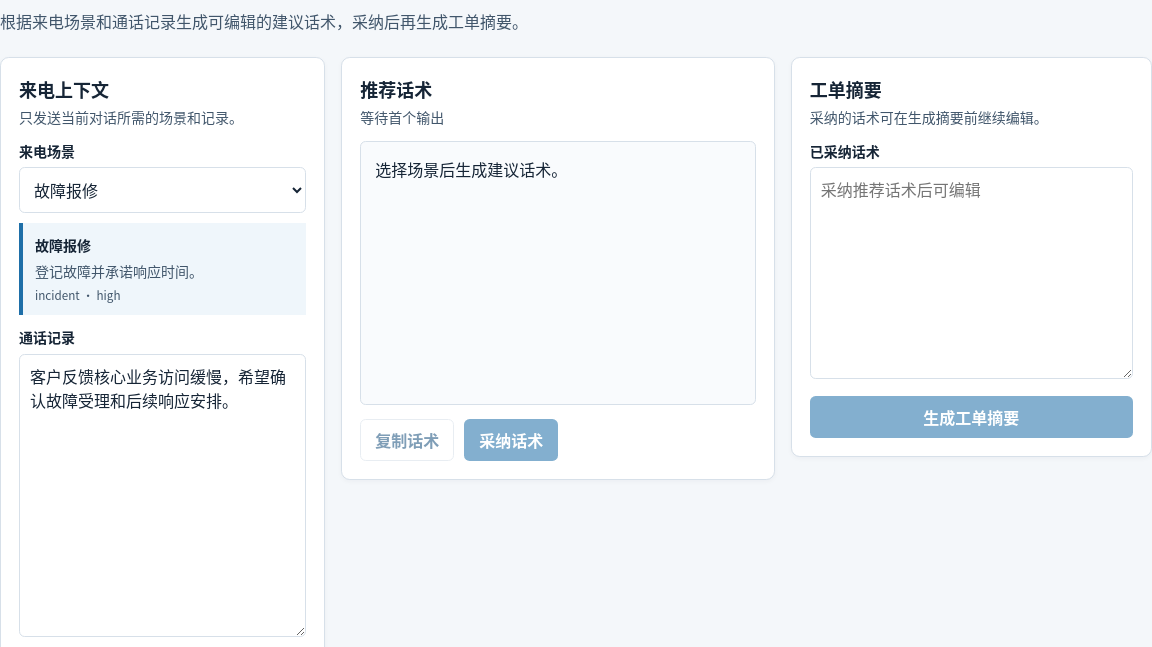
Test: accepts a streamed suggestion and enables summary
The image size is (1152, 647).
Select "故障报修" in the dropdown labelled "来电场景" at (163, 190), box 19,167 -> 306,213
(page scrolled)
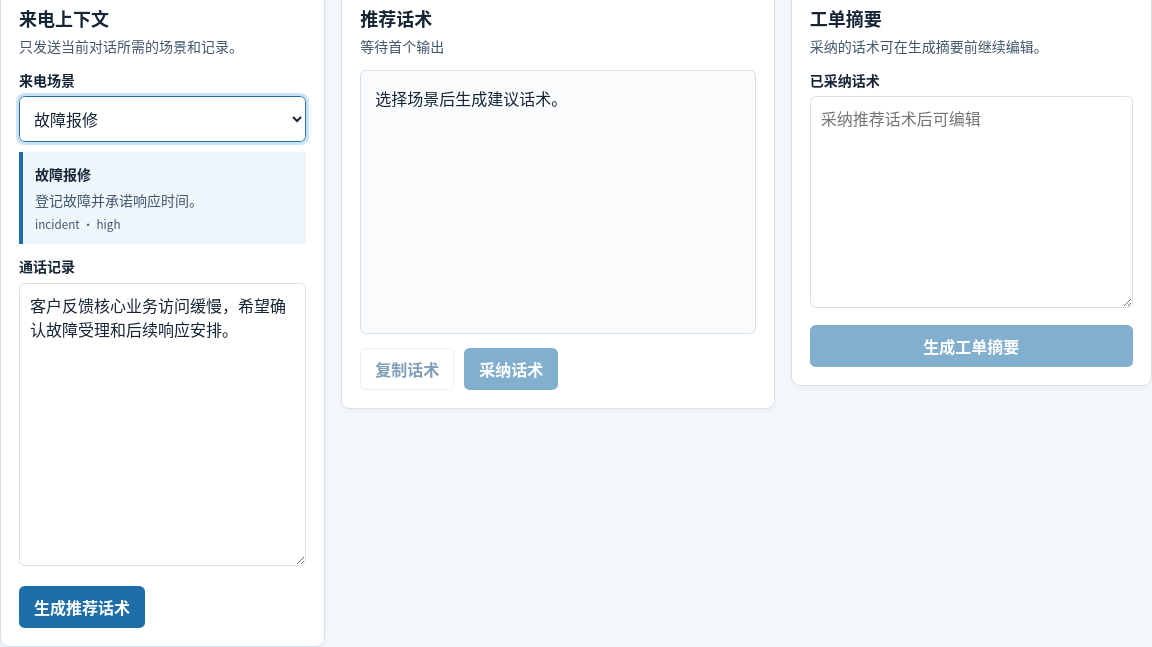
Click the button "生成推荐话术".
click(82, 607)  # box 19,586 -> 145,628
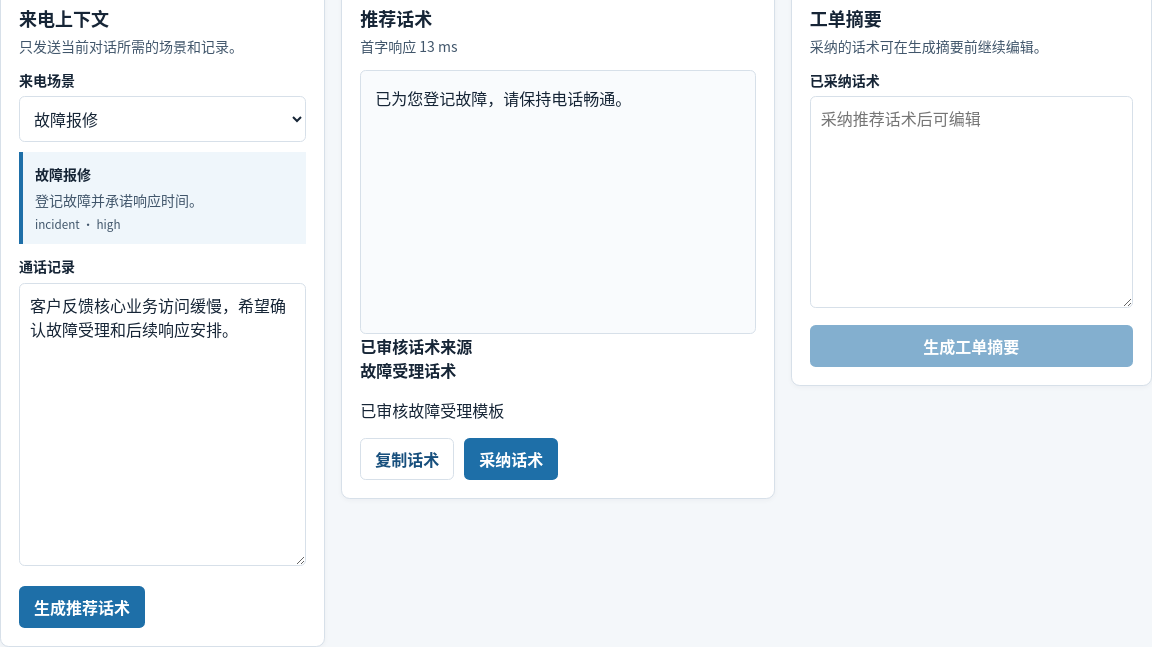
Expected: the text "已为您登记故障，请保持电话畅通。" is shown, 360,70 -> 756,334
Expected: the text "故障受理话术" is shown, 360,358 -> 456,382
Expected: the text "已审核故障受理模板" is shown, 360,398 -> 504,422
Click the button "采纳话术".
click(511, 459)  # box 464,438 -> 558,480
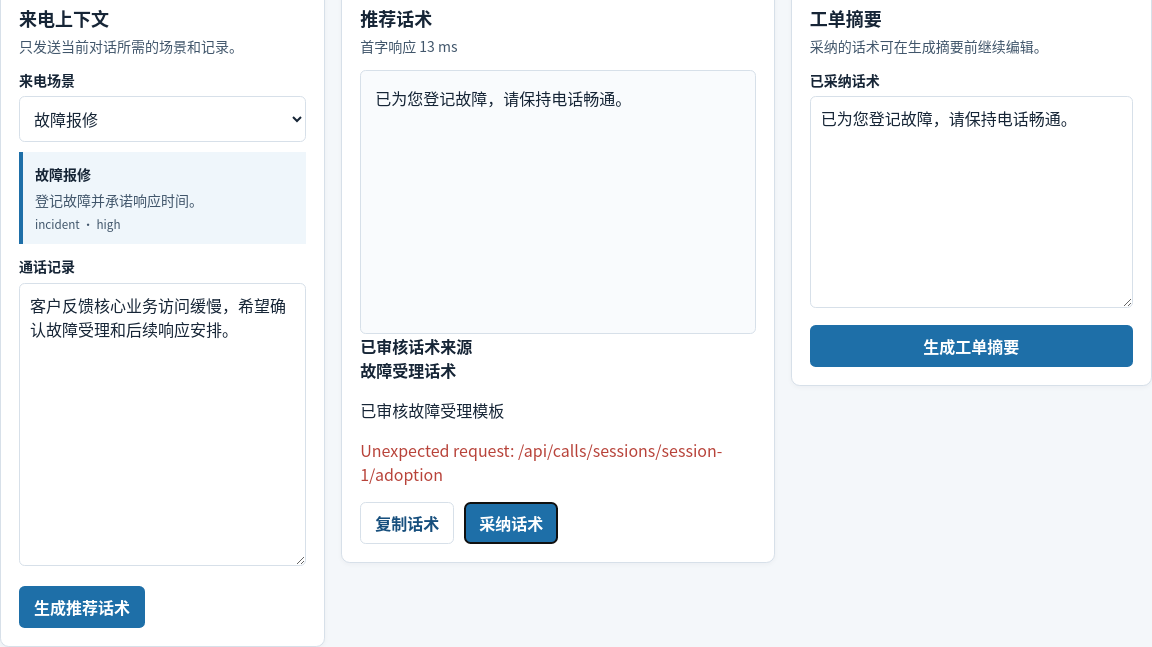
Expected: the button "生成工单摘要" is enabled, 810,325 -> 1133,367
